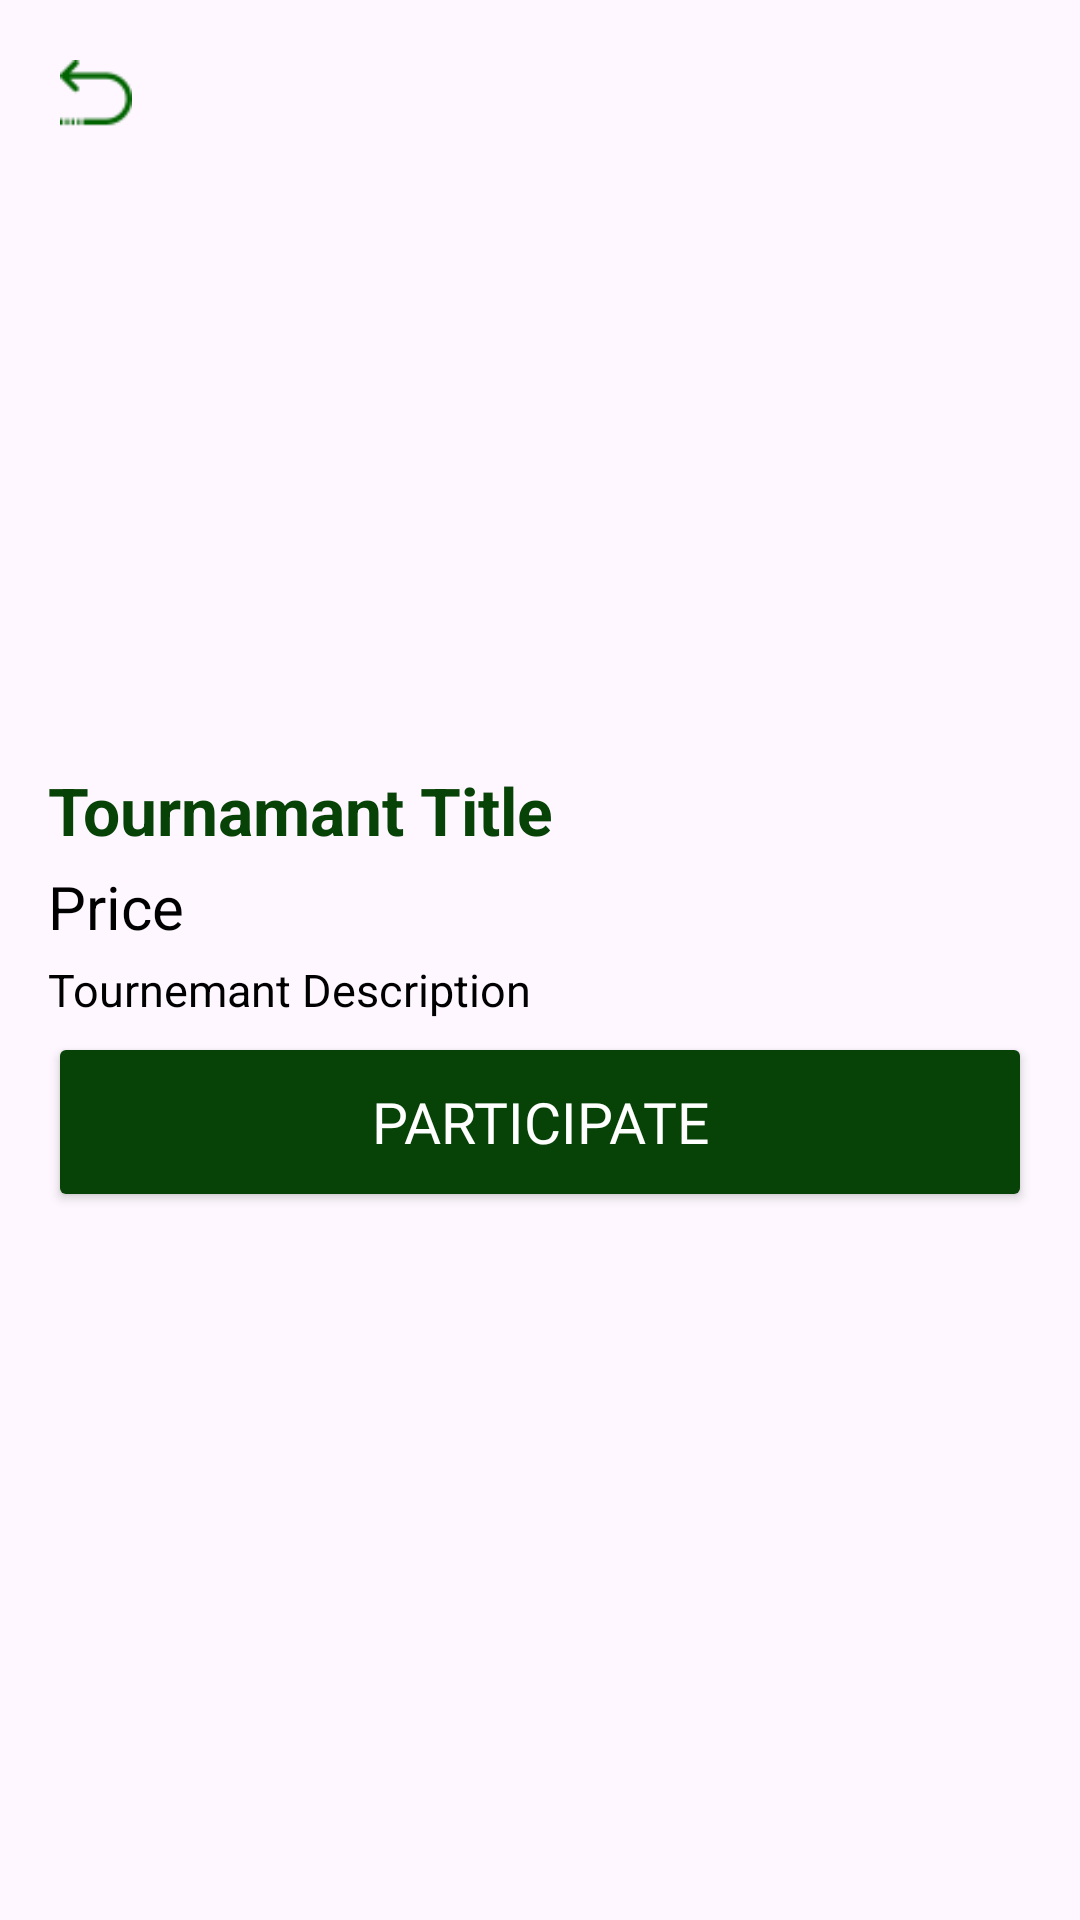

Icons on this 1080px x 1920px Android screen, each with the point to tap as [x,y]:
Back: [96,93]
